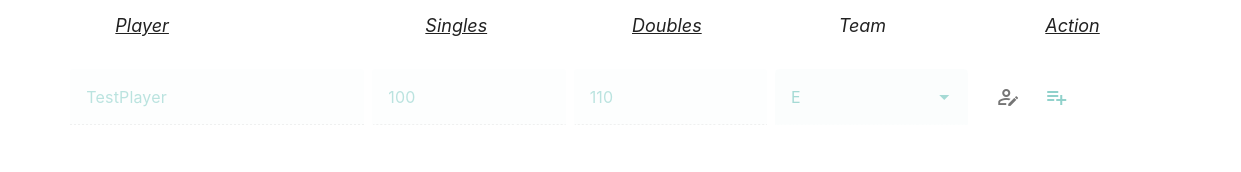
Test: TablePlayers.vue › add to simulator › shows removeFromSimulatorIcon after clicking on addToSimulator
Click the button with id "tablePlayersAddToSimulator": (1056, 97) [1032,73,1080,121]
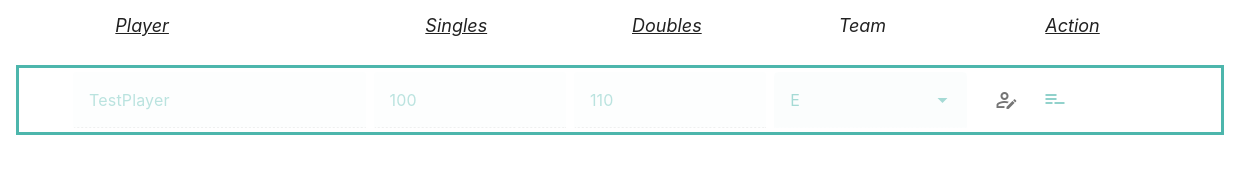
Now the button with id "tablePlayersRemoveFromSimulator" is shown, box [1031,76,1079,124]
